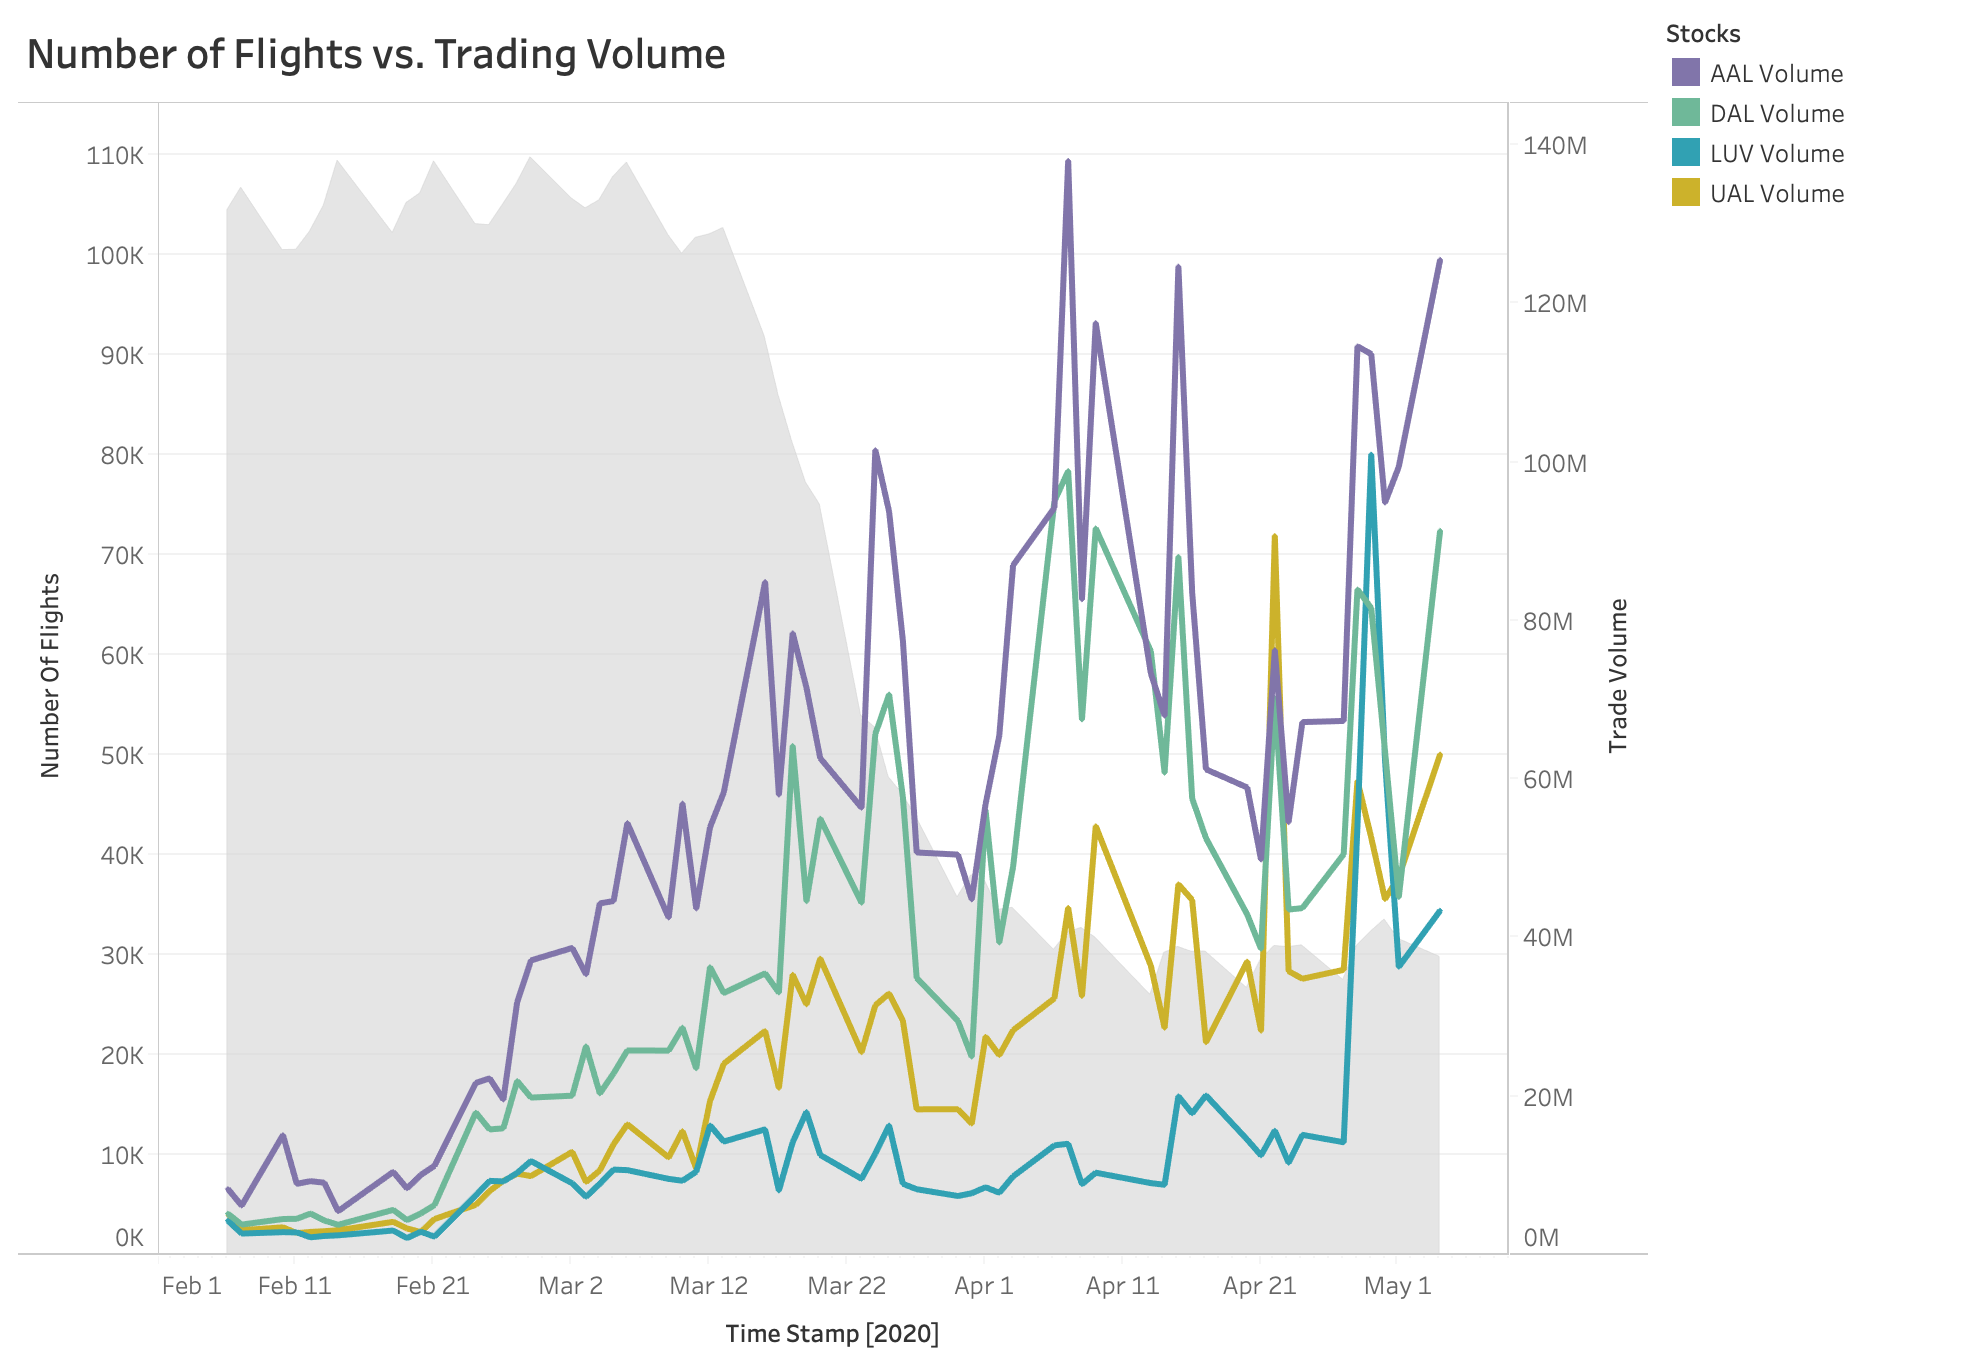

Layout of this report page (visuals, bound fields, positions):
{"tool":"tableau","page":{"name":"Dashboard 1","canvas":[1000,1000],"units":"permille","ordinal":0},"visuals":[{"type":"worksheet","title":"Fig 1","mark":"Automatic","rows":["NumberOfFlights"],"cols":["TimeStamp"],"box":[7.8,12.4,828.1,975.2]},{"type":"legend","title":"Fig 1","param":"[federated.0j0h2uk1pa196e18oghfv0ouhi4r].[:Measure Names]","box":[835.9,12.4,156.2,164.6]}]}

Visuals, with their boxes on the dashboard's canvas, which has no fixed pixel size, in thousandths of its width and height (x1, y1, x2, y2). These are canvas units, not pixel positions in the 1984x1362 screenshot, which may show the page scaled, cropped or inside an application window:
"Fig 1" worksheet: <bbox>8, 12, 836, 988</bbox>
"Fig 1" legend: <bbox>836, 12, 992, 177</bbox>
